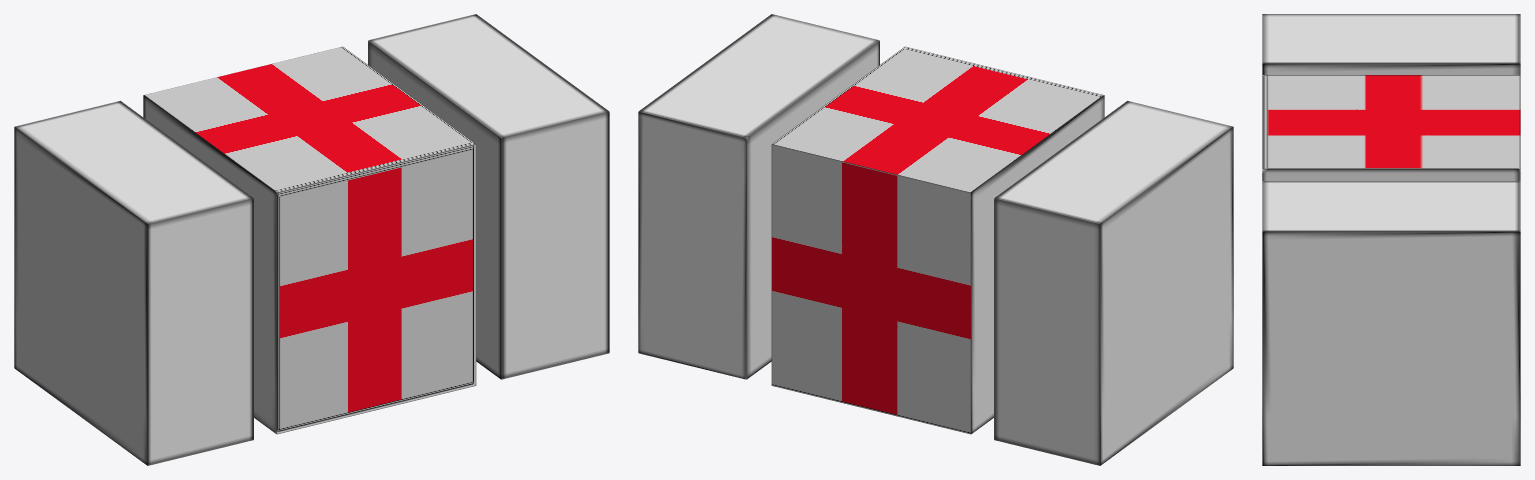
The model's file is health_crate.glb.
3 renders of one model, left to right at view 1: azimuth 30°, elevation 25°; view 2: azimuth 150°, elevation 25°; view 3: azimuth 270°, elevation 25°, orthographic. The views are drawn at different scales.
Visible parts, largest first — view 1: health_crate; view 2: health_crate; view 3: health_crate.
Part boxes in pixels (<box>): health_crate: <box>14,14,609,465</box>; health_crate: <box>638,14,1233,465</box>; health_crate: <box>1262,14,1520,465</box>.
Bounding box in the file's own units: 2 × 1 × 1.
Materials: 1 (1 with a texture image).
